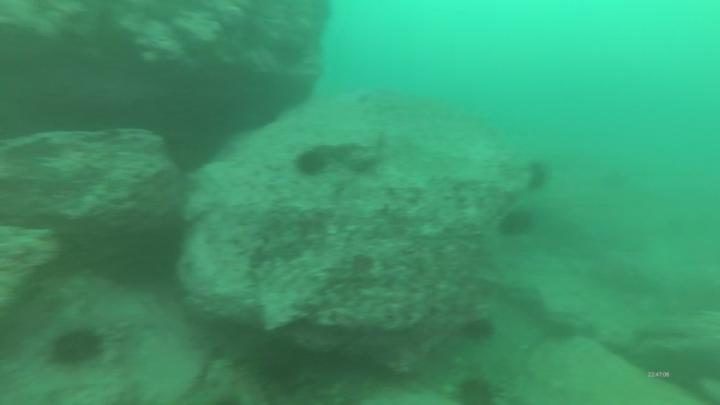echinus: (48, 327, 106, 369), (448, 375, 504, 405), (497, 208, 538, 238), (458, 317, 497, 346), (293, 149, 329, 180), (523, 157, 550, 195), (347, 253, 380, 281)
